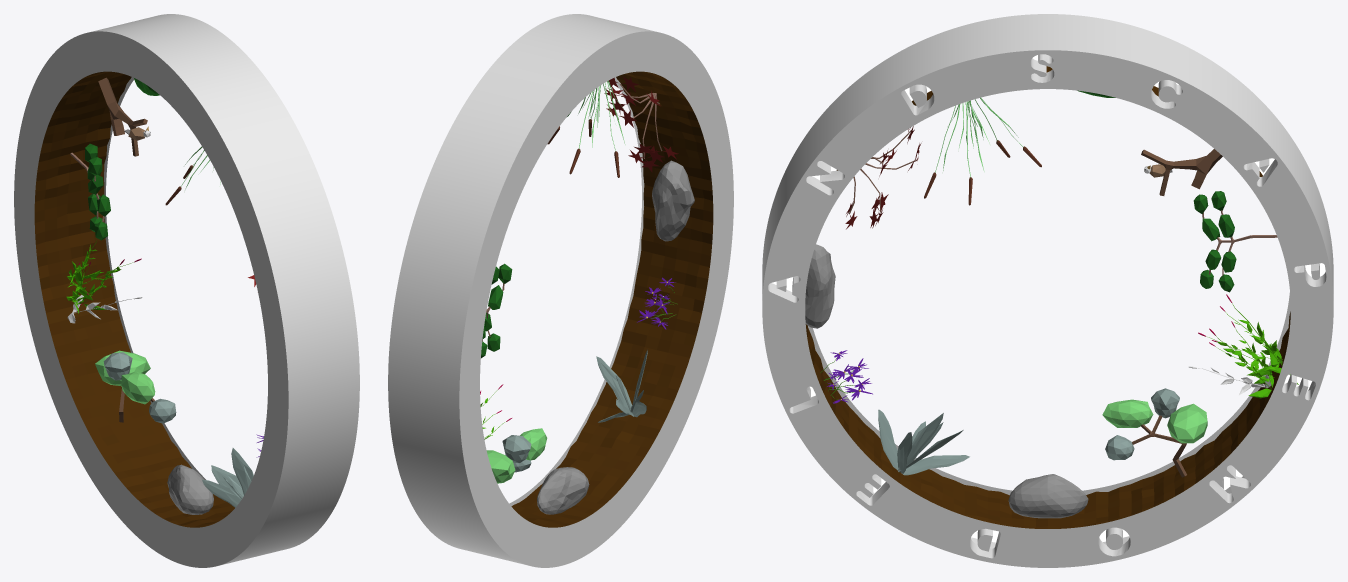
The picture shows the model from 3 angles, left to right: view 1: azimuth 30°, elevation 25°; view 2: azimuth 150°, elevation 25°; view 3: azimuth 270°, elevation 25°; orthographic projection. The views are drawn at different scales.
Parts seen in each view (by area): view 1: Torus, Cylinder, Icosphere, Icosphere.032, Plane.003, Icosphere.003, Icosphere.004, Icosphere.001, Icosphere.007, Icosphere.002, Icosphere.021, Icosphere.022; view 2: Torus, Cylinder, Icosphere.033, Icosphere, Circle.120, Icosphere.032, Icosphere.004, Icosphere.001, Icosphere.008, Icosphere.003; view 3: Torus, Cylinder, Icosphere, Icosphere.033, Icosphere.032, Icosphere.004, Plane.003, Icosphere.003, Backlight.
Boxes of the visible parts, <box> form: Torus: <box>14,14,359,567</box>; Cylinder: <box>34,71,234,527</box>; Icosphere: <box>167,464,213,514</box>; Icosphere.032: <box>85,143,110,240</box>; Plane.003: <box>98,77,147,156</box>; Icosphere.003: <box>121,371,155,404</box>; Icosphere.004: <box>95,350,150,386</box>; Icosphere.001: <box>103,352,132,380</box>; Icosphere.007: <box>231,448,253,495</box>; Icosphere.002: <box>149,398,176,423</box>; Icosphere.021: <box>202,479,242,507</box>; Icosphere.022: <box>211,465,243,496</box>; Torus: <box>388,14,733,567</box>; Cylinder: <box>511,71,713,527</box>; Icosphere.033: <box>652,160,694,241</box>; Icosphere: <box>537,467,589,514</box>; Circle.120: <box>604,76,678,172</box>; Icosphere.032: <box>481,263,512,358</box>; Icosphere.004: <box>486,450,515,483</box>; Icosphere.001: <box>502,435,531,463</box>; Icosphere.008: <box>596,356,632,409</box>; Icosphere.003: <box>520,428,547,460</box>; Torus: <box>762,14,1333,567</box>; Cylinder: <box>805,66,1290,528</box>; Icosphere: <box>1008,474,1088,518</box>; Icosphere.033: <box>805,244,835,328</box>; Icosphere.032: <box>1193,191,1236,292</box>; Icosphere.004: <box>1167,403,1207,443</box>; Plane.003: <box>1141,149,1222,195</box>; Icosphere.003: <box>1102,399,1153,427</box>; Backlight: <box>772,55,1325,542</box>.
Bounding box in the file's own units: 2.88 × 15 × 15.
